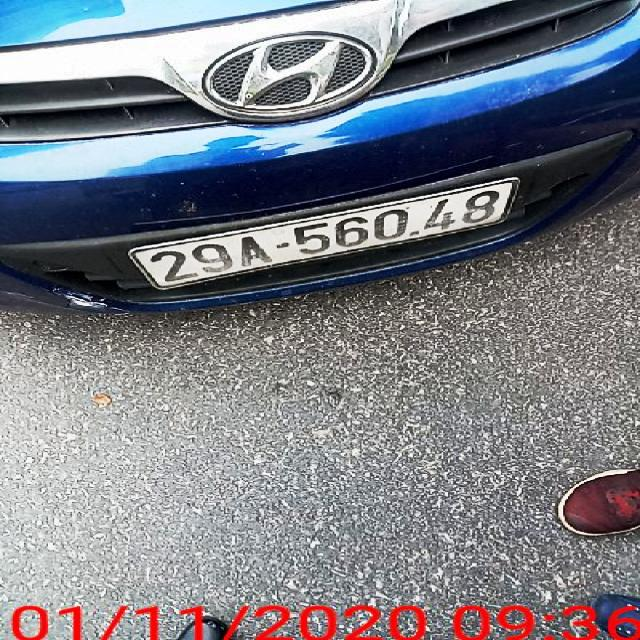license_plate: (129, 176, 518, 291)
